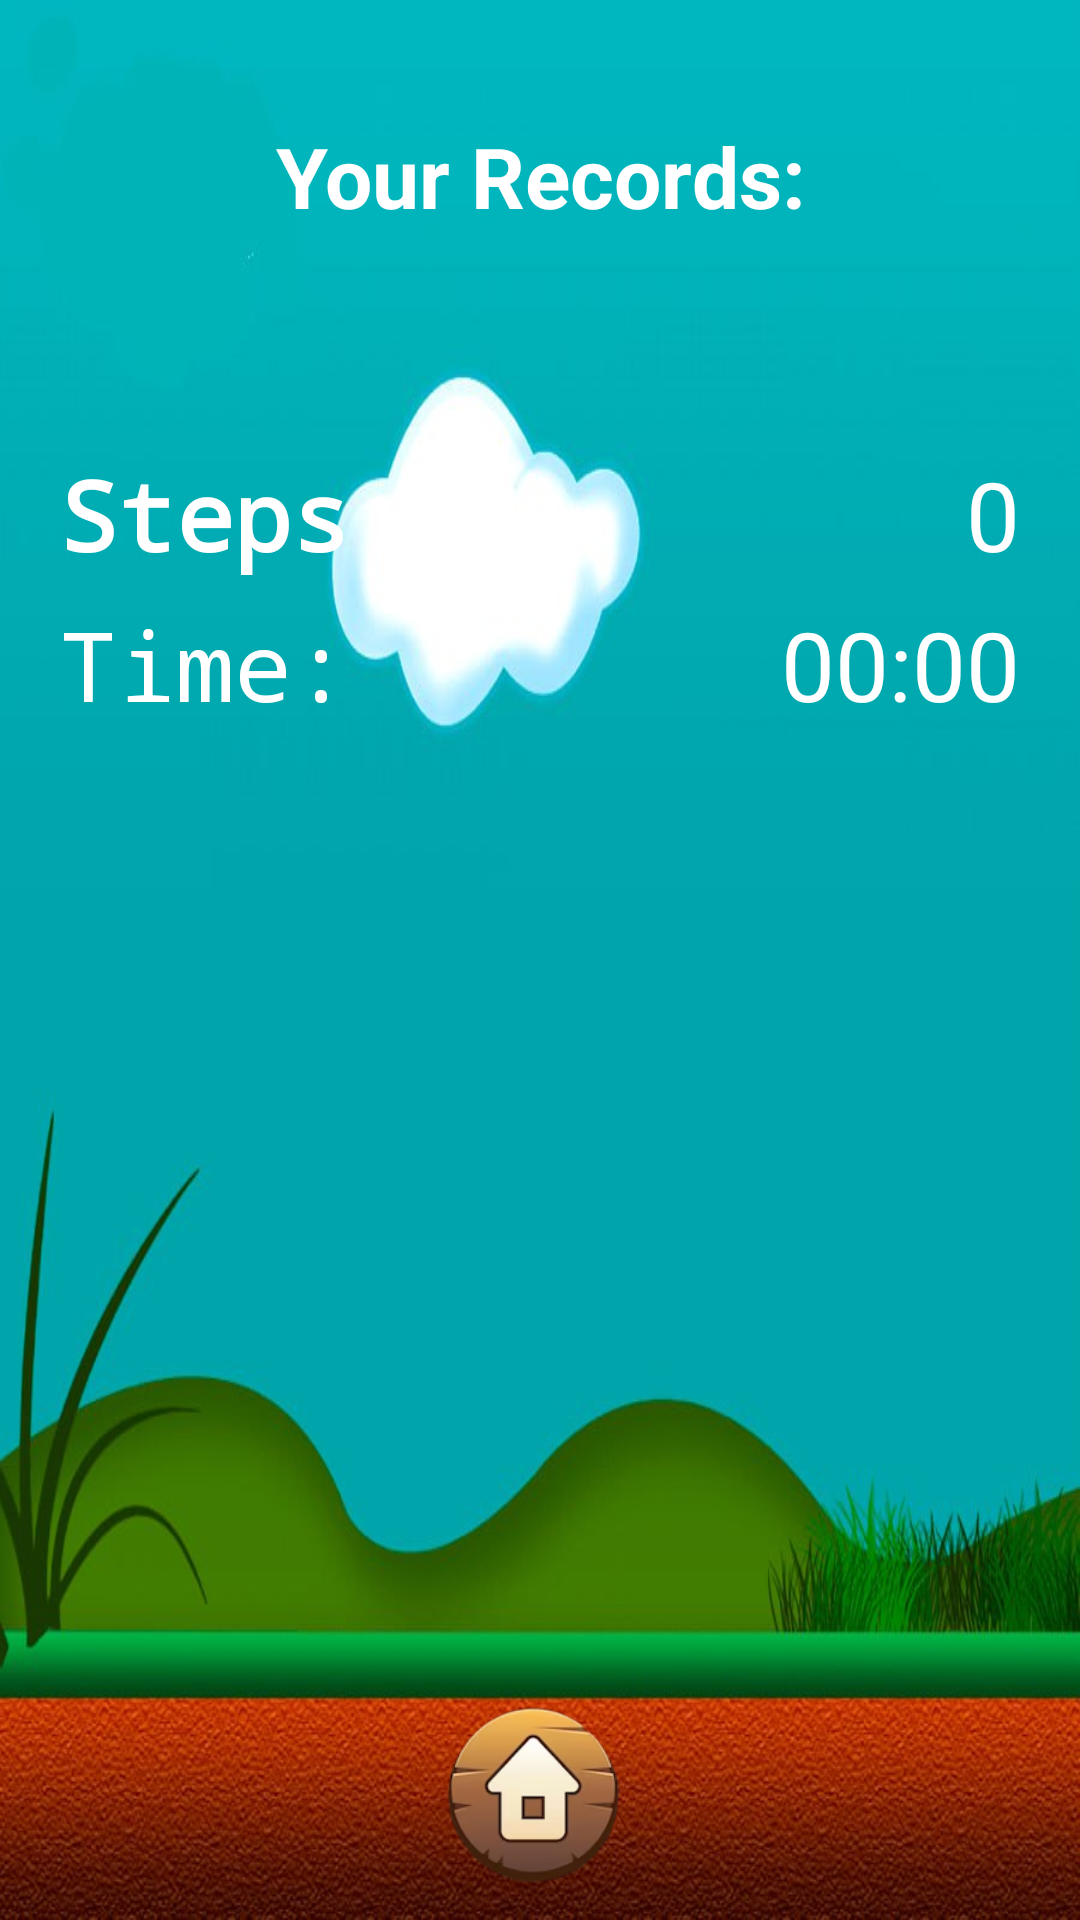

Where to tap for icons on this 1080 x 1920 app screen, as (x,y):
home: (540,1791)
